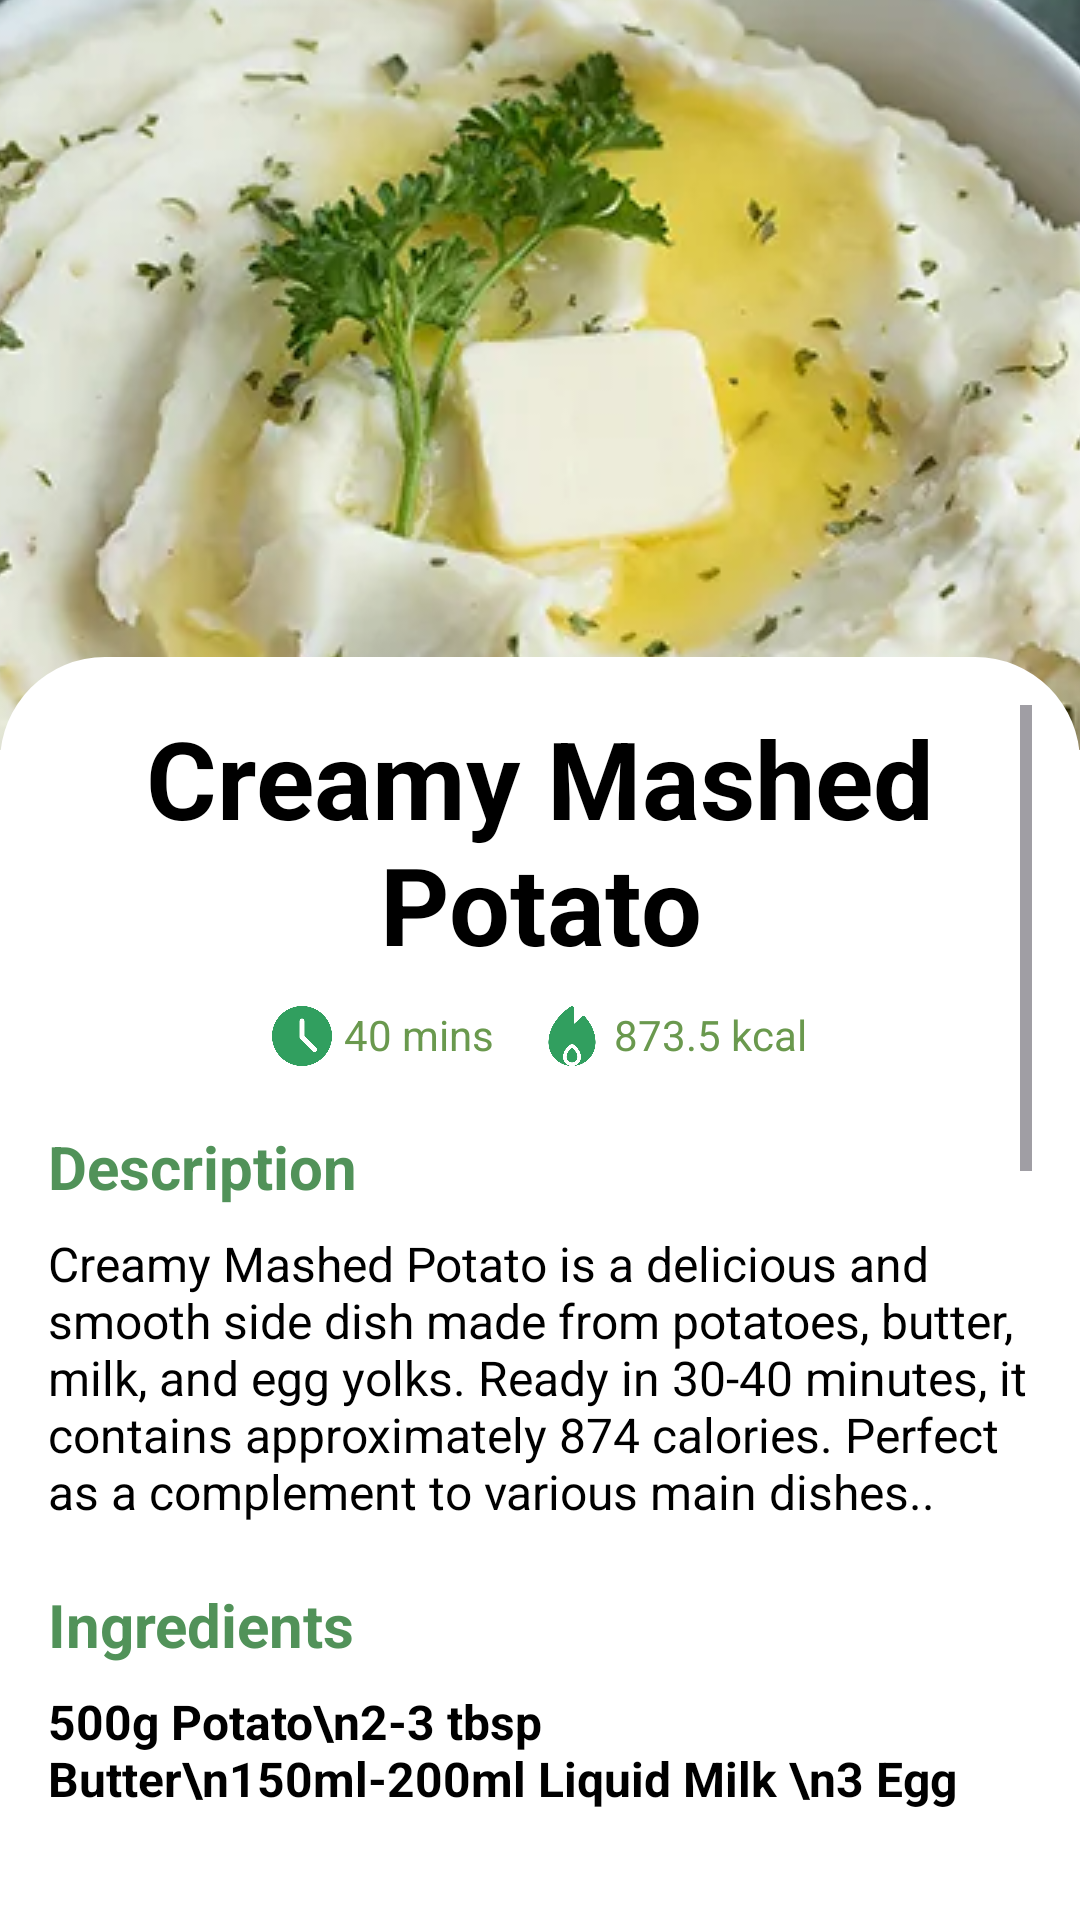

Where icons sit on this 1080w x 1920h app screen, as (left=x1, top=y1, right=x2, bottom=y2):
calicon: (left=548, top=1006, right=596, bottom=1066)
timeicon: (left=272, top=1006, right=332, bottom=1066)
